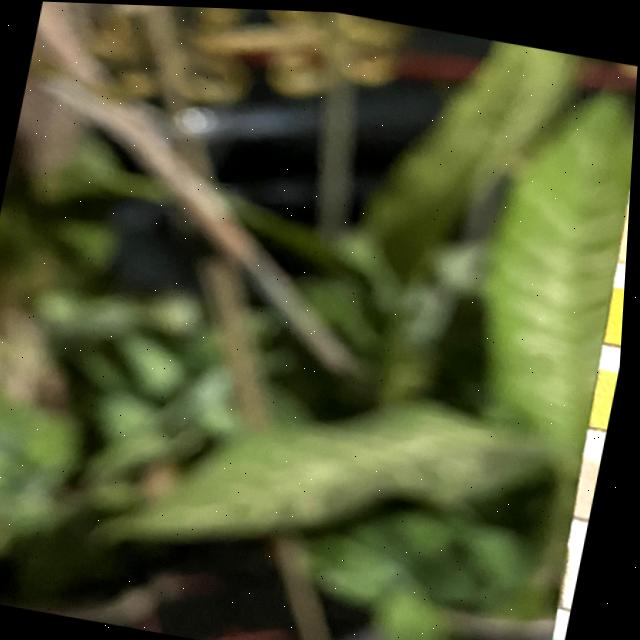Blood: (606, 281, 628, 339)
Ketone: (580, 451, 607, 514)
SpGravity: (593, 363, 623, 425)
pH: (621, 202, 631, 258)
